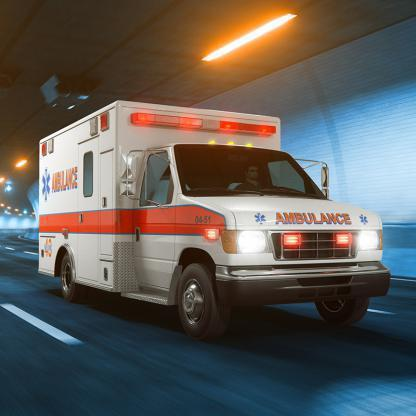Ambulance - v1 Ambulance last generate: (36, 96, 391, 342)
